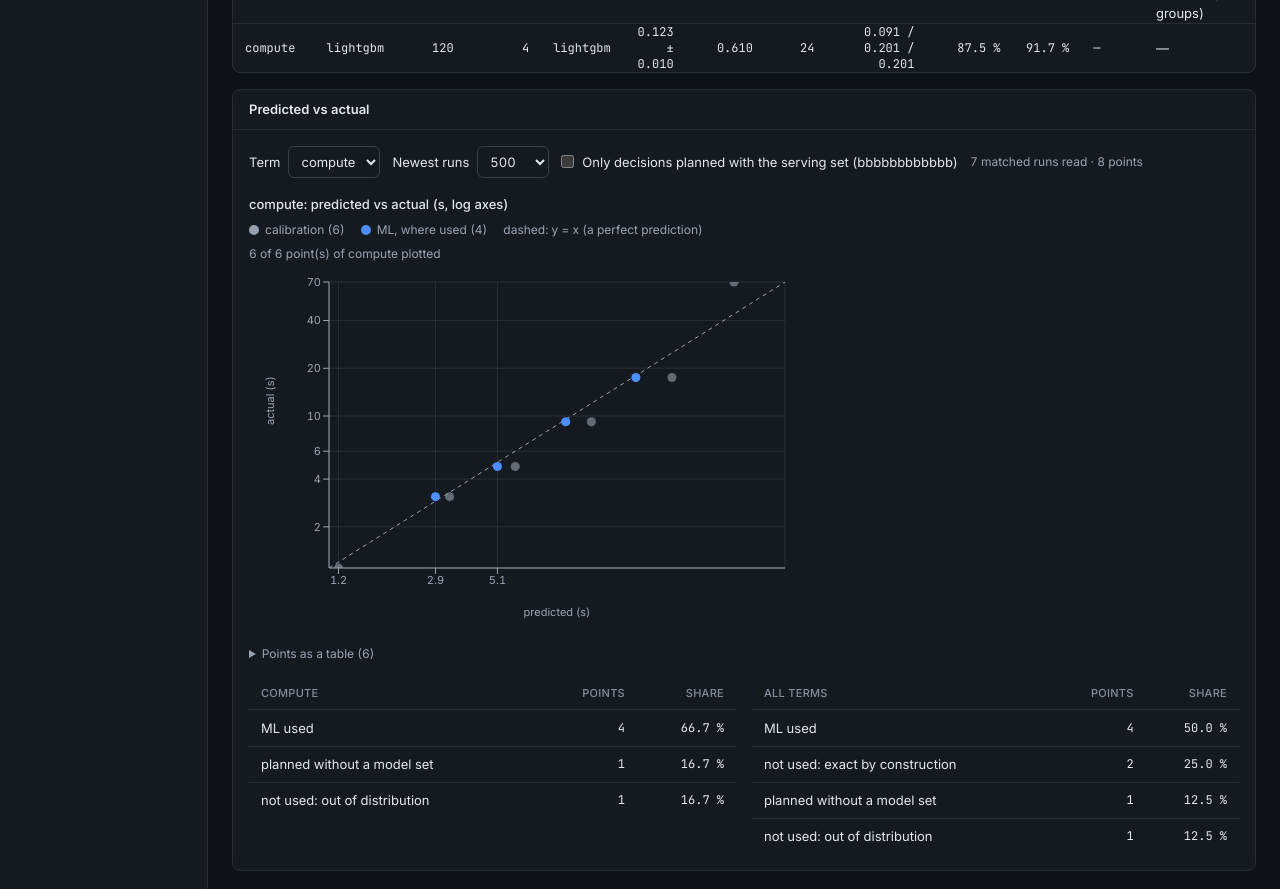
Planner page: Models tab › scatter: the points are the fixture's (calibration for every point, ML where used), with a table fallback
(page scrolled)
Expected: the element with test id "ml-scatter" shows "compute: predicted vs actual (s, log axes)", top-left (249, 196), bottom-right (508, 212)
Click the heading "Points as a table (6)": (318, 653) top-left (262, 646), bottom-right (374, 660)
(page scrolled)
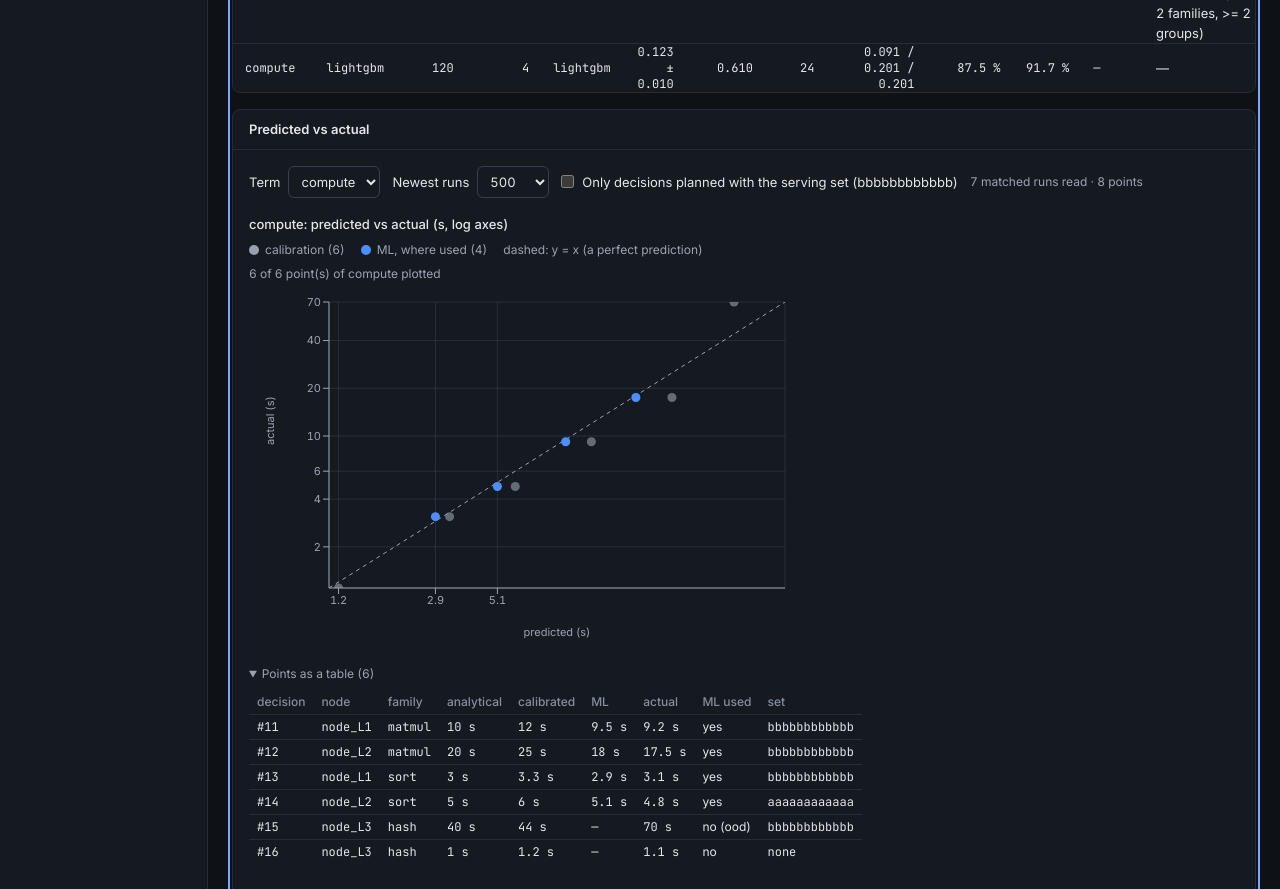
Expected: the row "#15 node_L3 hash 40 s 44 s — 70 s no (ood) bbbbbbbbbbbb" is shown, top-left (249, 814), bottom-right (862, 839)
Expected: the row "#16 node_L3 hash 1 s 1.2 s — 1.1 s no none" is shown, top-left (249, 839), bottom-right (862, 864)
